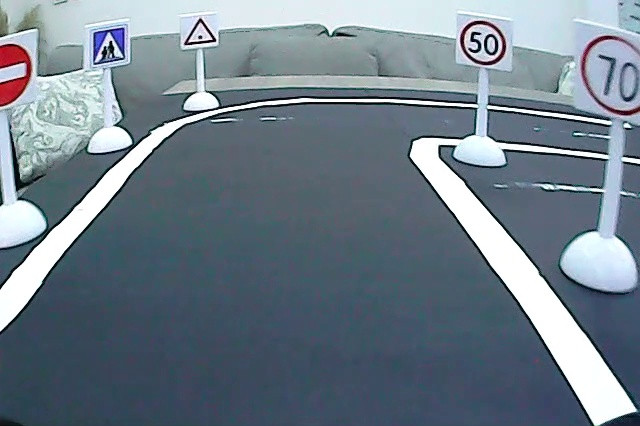do not enter: (1, 36, 40, 111)
green light: (183, 14, 218, 47)
school crossing: (89, 26, 128, 65)
speed limit 50: (458, 17, 509, 68)
speed limit 70: (578, 30, 640, 119)
